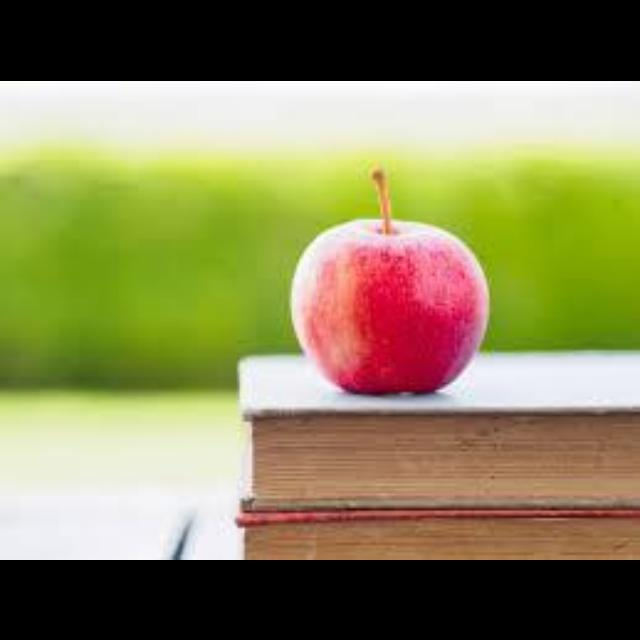apple: (289, 169, 487, 391)
